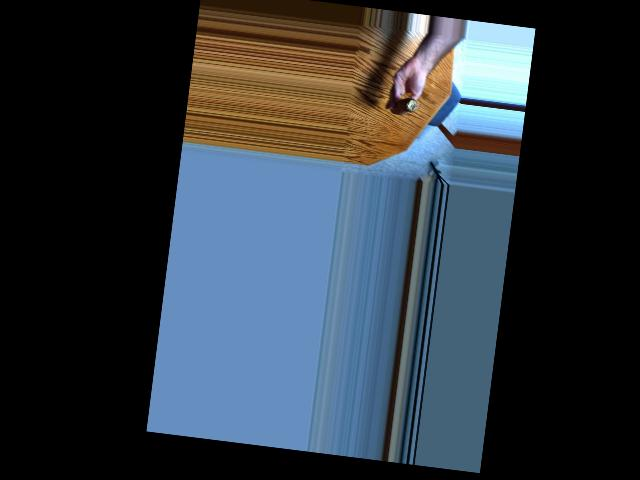sweet_potato: (389, 91, 423, 118)
